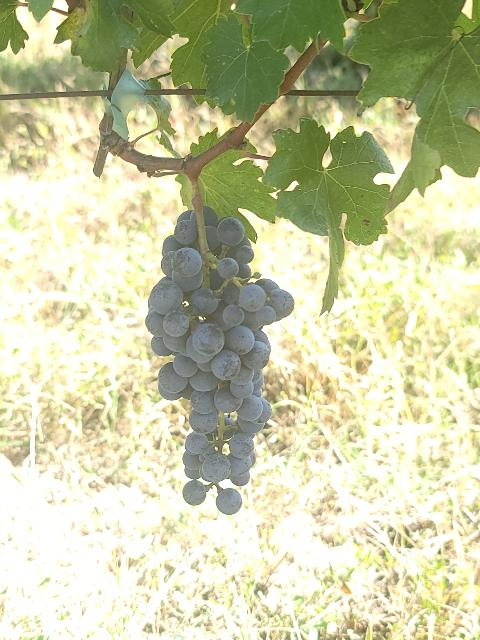grapes: (145, 206, 294, 514)
